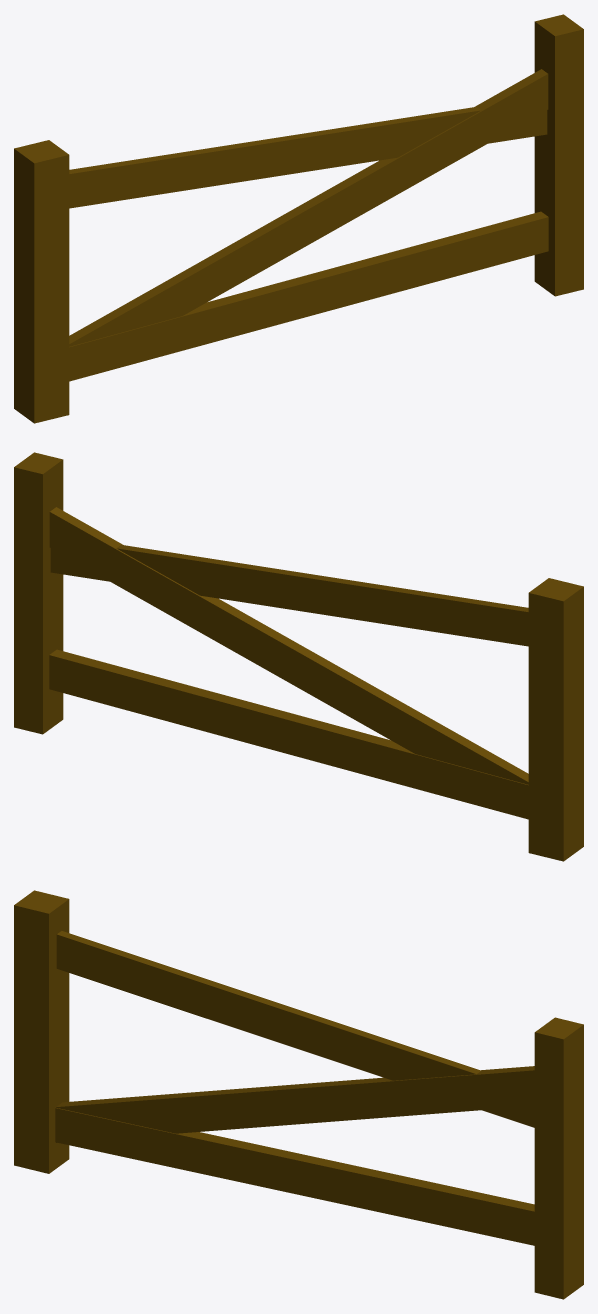
File: Cerca.fbx
3 renders of one model, top to bottom at view 1: azimuth 30°, elevation 25°; view 2: azimuth 150°, elevation 25°; view 3: azimuth 330°, elevation 25°, orthographic.
Visible parts, largest first — view 1: polySurface1, polySurface4; view 2: polySurface1, polySurface4; view 3: polySurface1, polySurface4.
Boxes of the visible parts, x1=… form: polySurface1: x1=69, y1=69, x2=548, y2=381; polySurface4: x1=14, y1=14, x2=583, y2=423; polySurface1: x1=49, y1=507, x2=528, y2=819; polySurface4: x1=14, y1=452, x2=583, y2=861; polySurface1: x1=55, y1=931, x2=534, y2=1245; polySurface4: x1=14, y1=890, x2=583, y2=1299.
Bounding box in the file's own units: 9.54 × 4.32 × 0.6106.
